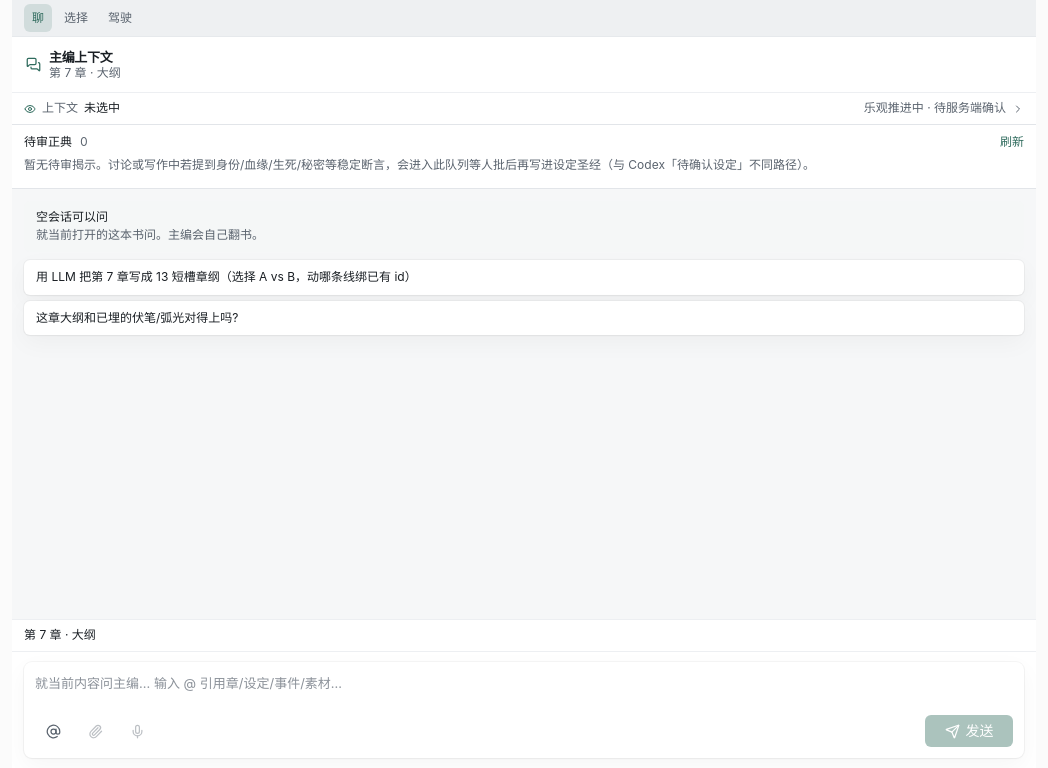
Test: ChiefDock UI › 收到 Hermes approval 事件时展示审批卡并可批准
This screenshot has width=1048, height=768.
Type "请登记这个设定" into the text box with placeholder "就当前内容问主编… 输入 @ 引用章/设定/事件/素材…" at (524, 689), box [35,671,1013,707]
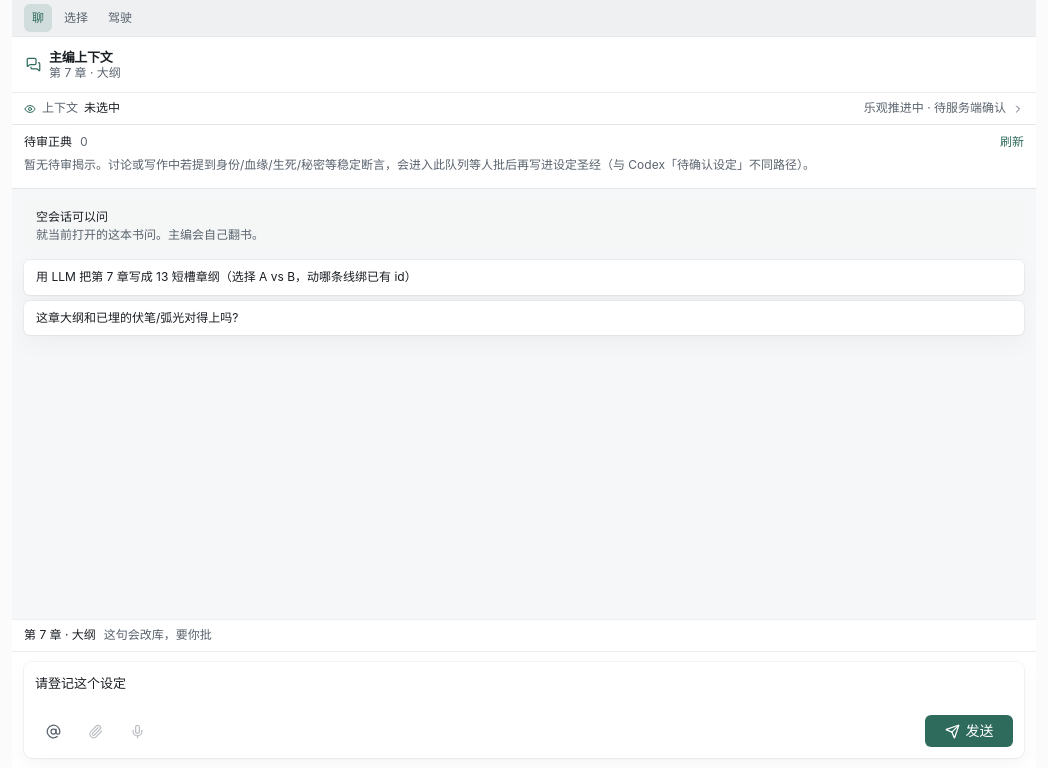
Click the button "发送" at (969, 731), box [925,715,1013,747]
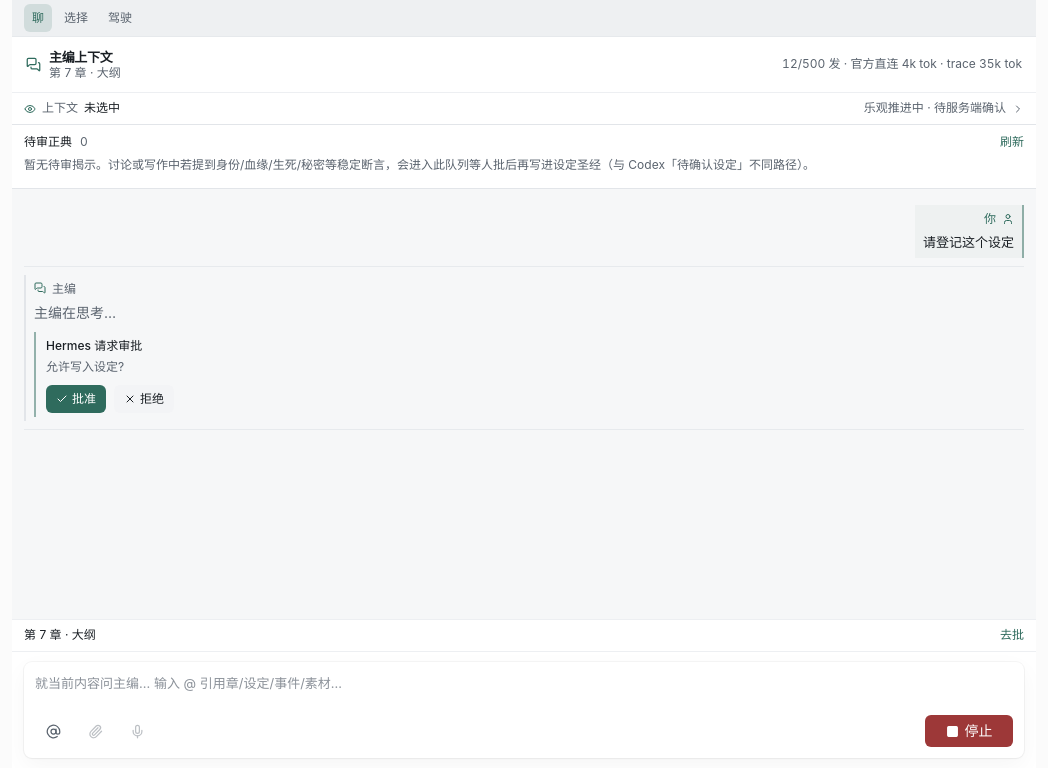
Expected: the text "允许写入设定?" is shown, [46,359,124,374]
Click the button "批准" at (76, 399), box [46,385,106,413]
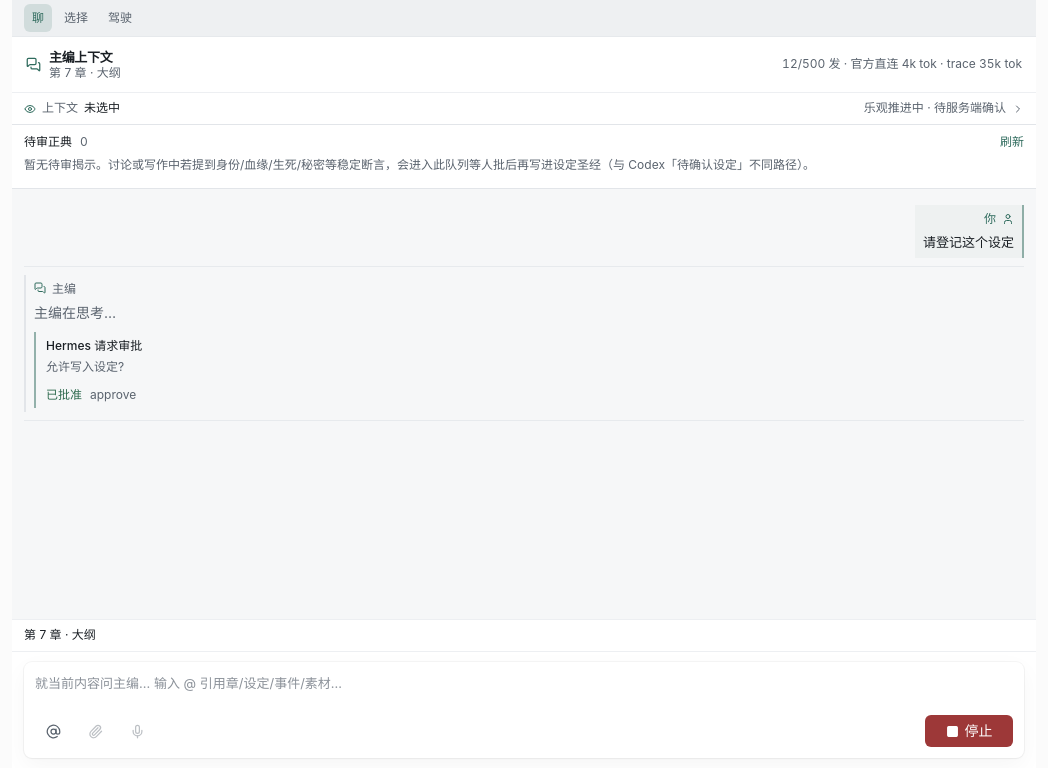
Expected: the text "已批准" is shown, [46,385,82,404]
